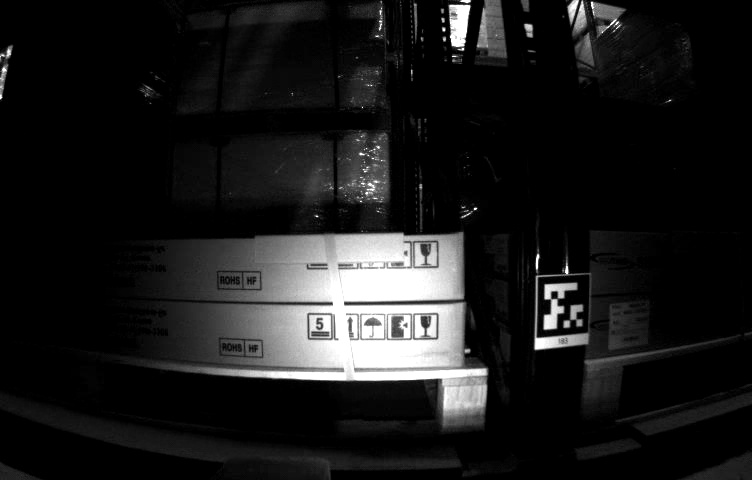True Barcode: (608, 302, 652, 348)
